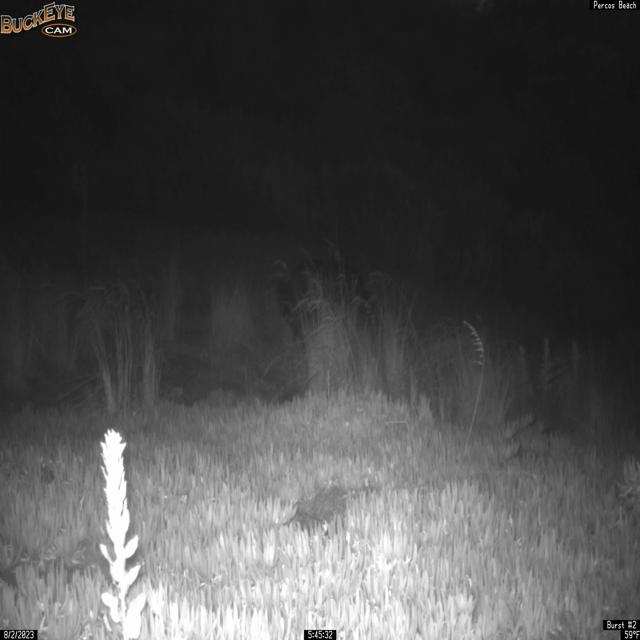pig: (272, 255, 376, 343)
